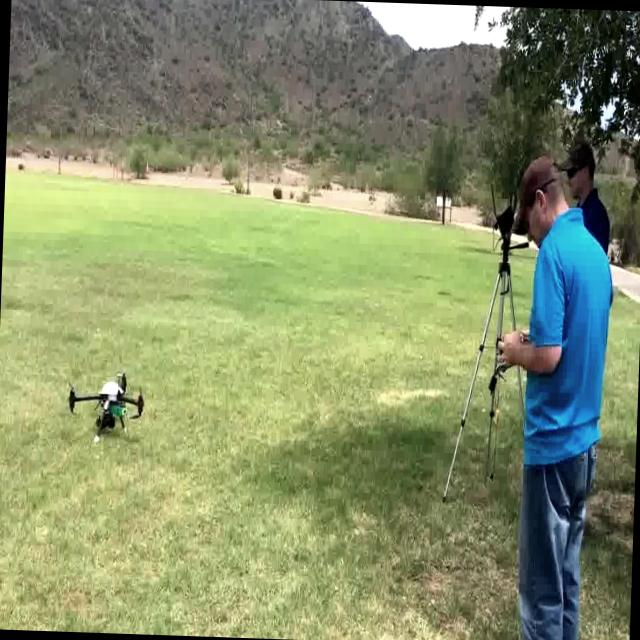drone: (65, 371, 148, 438)
